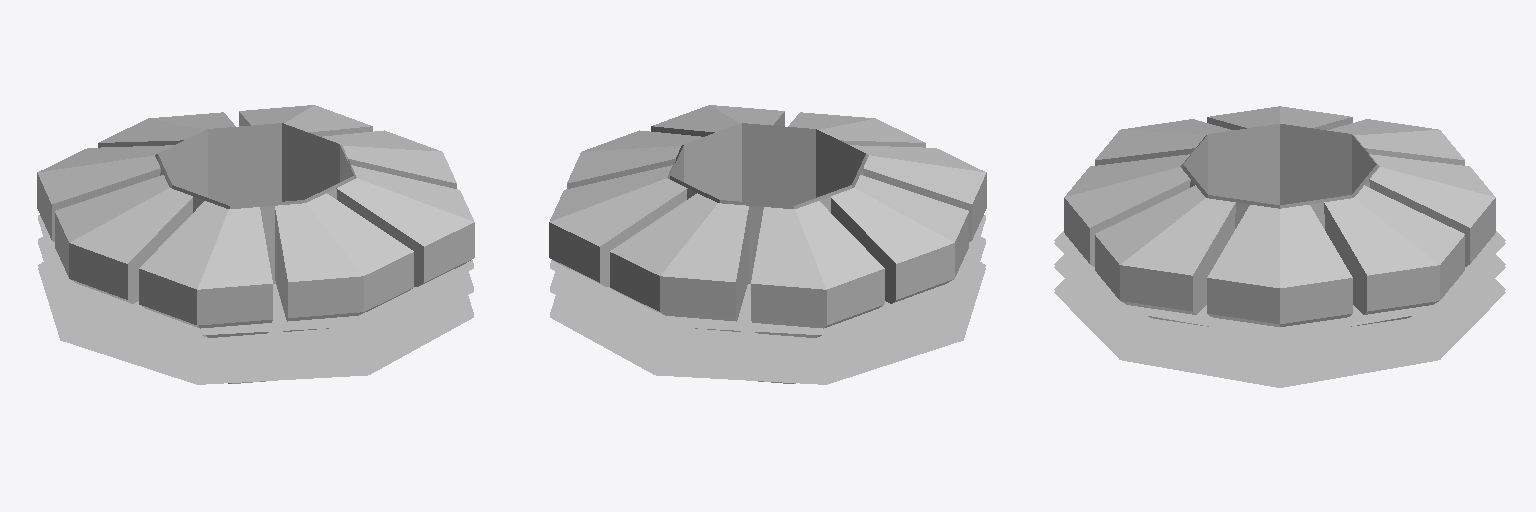
Rendered from Ring.obj.
The picture shows the model from 3 angles: view 1: azimuth 30°, elevation 25°; view 2: azimuth 150°, elevation 25°; view 3: azimuth 270°, elevation 25°; orthographic projection.
Visible parts, largest first — view 1: Ring1 Roof, Ring1 Shiels; view 2: Ring1 Roof, Ring1 Shiels; view 3: Ring1 Roof, Ring1 Shiels.
Boxes of the visible parts, <box> form: Ring1 Roof: <box>37,105,474,384</box>; Ring1 Shiels: <box>158,123,353,208</box>; Ring1 Roof: <box>549,105,986,384</box>; Ring1 Shiels: <box>670,123,865,208</box>; Ring1 Roof: <box>1054,106,1505,387</box>; Ring1 Shiels: <box>1183,124,1376,208</box>.
Bounding box in the file's own units: 939 × 420 × 939.